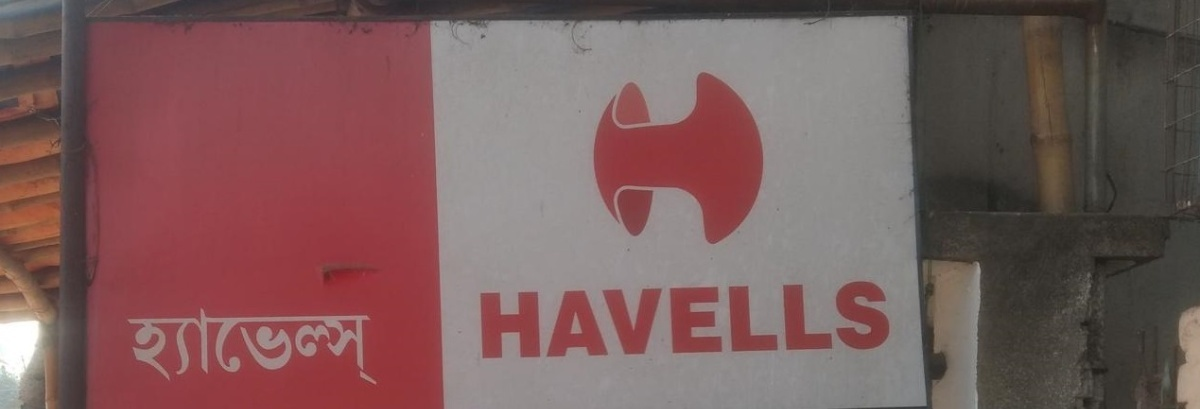text: (593, 64, 608, 257), (609, 64, 624, 257), (625, 64, 640, 257), (641, 64, 656, 257), (657, 64, 672, 257), (673, 64, 688, 257), (689, 64, 704, 257), (705, 64, 720, 257), (721, 64, 736, 257), (737, 64, 752, 257), (753, 64, 767, 257), (481, 274, 496, 363), (497, 274, 512, 363), (513, 274, 528, 363), (529, 274, 544, 363), (545, 274, 560, 363), (561, 274, 576, 363), (577, 274, 592, 363), (593, 274, 608, 363), (609, 274, 624, 363), (625, 274, 640, 363), (641, 274, 656, 363), (657, 274, 672, 363), (673, 274, 688, 363), (689, 274, 704, 363), (705, 274, 720, 363), (721, 274, 736, 363), (737, 274, 752, 363), (753, 274, 768, 363), (769, 274, 784, 363), (785, 274, 800, 363), (801, 274, 816, 363), (817, 274, 832, 363), (833, 274, 848, 363), (849, 274, 864, 363), (865, 274, 880, 363), (129, 307, 144, 392), (145, 307, 160, 392), (161, 307, 176, 392), (177, 307, 192, 392), (193, 307, 208, 392), (209, 307, 224, 392), (225, 307, 240, 392), (241, 307, 256, 392), (257, 307, 272, 392), (273, 307, 288, 392), (289, 307, 304, 392), (305, 307, 320, 392), (321, 307, 336, 392), (337, 307, 352, 392), (353, 307, 368, 392), (586, 64, 592, 257), (881, 274, 894, 363), (369, 307, 381, 392), (478, 274, 480, 363), (127, 307, 128, 392)
